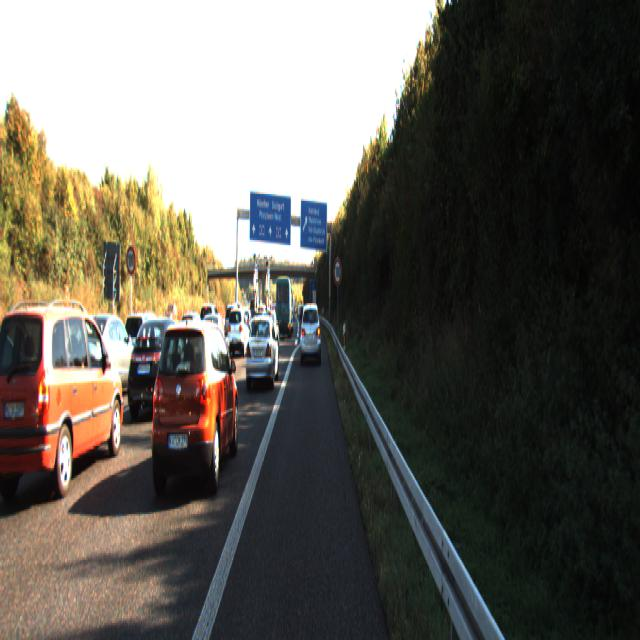Car: (0, 300, 126, 509), (146, 316, 240, 506), (126, 314, 192, 423), (71, 311, 140, 411), (0, 318, 42, 455), (244, 312, 279, 391), (300, 302, 321, 364), (227, 306, 251, 358), (275, 276, 291, 338)
